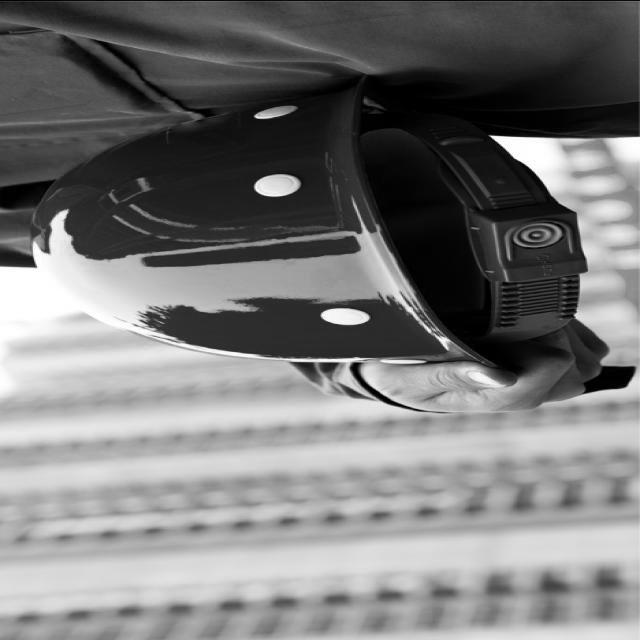construction helmet: (30, 78, 488, 362)
